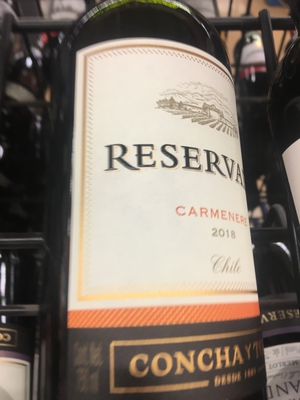reservado carmenere: (57, 24, 257, 400)
